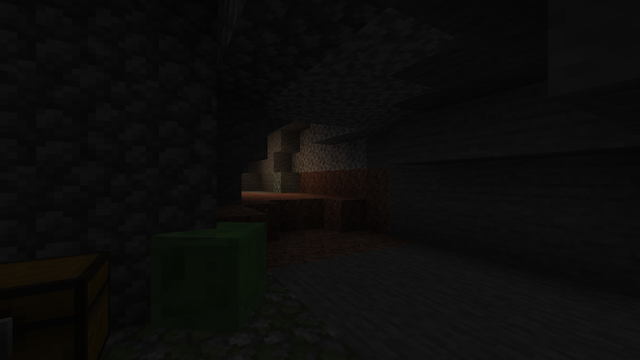slimes: (169, 217, 269, 341)
